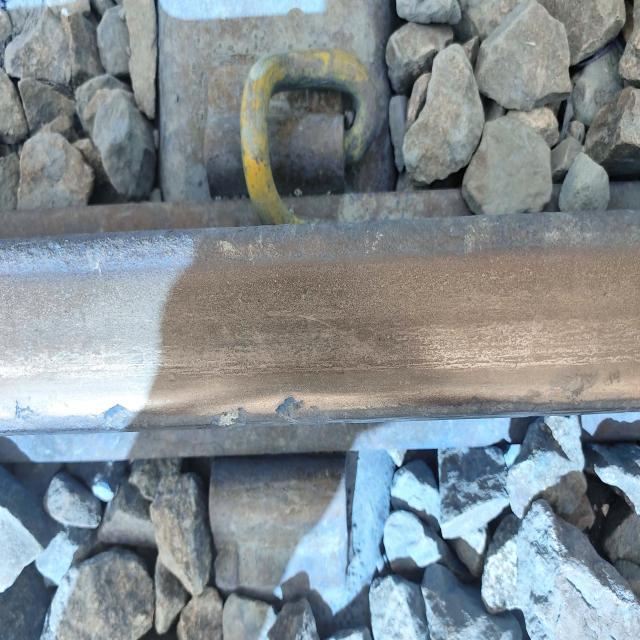head_checks_low: (94, 401, 138, 428), (210, 406, 250, 430), (277, 396, 305, 420), (8, 399, 32, 426)
